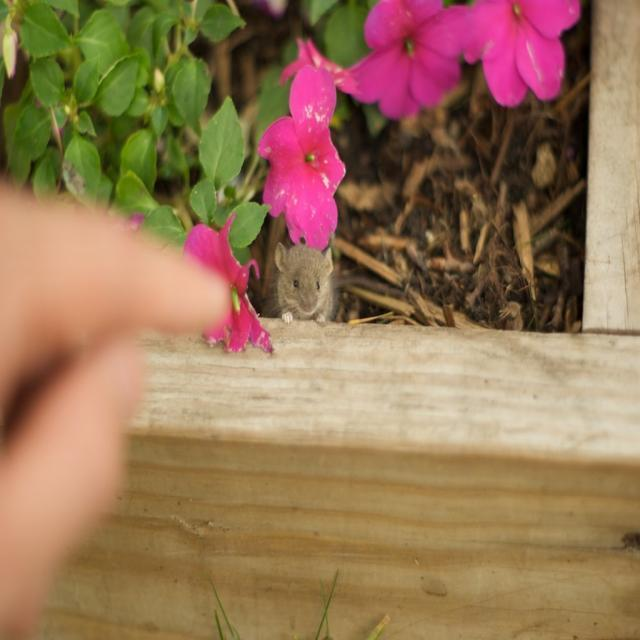rat: (272, 238, 345, 326)
